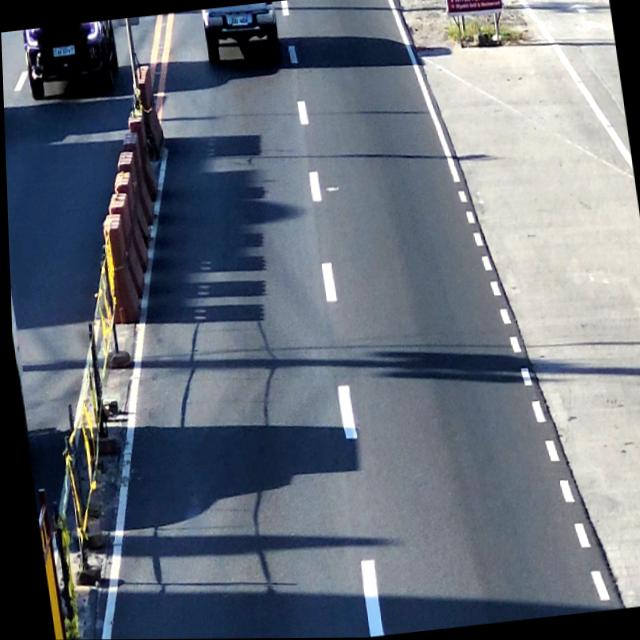Car: (198, 1, 281, 63)
